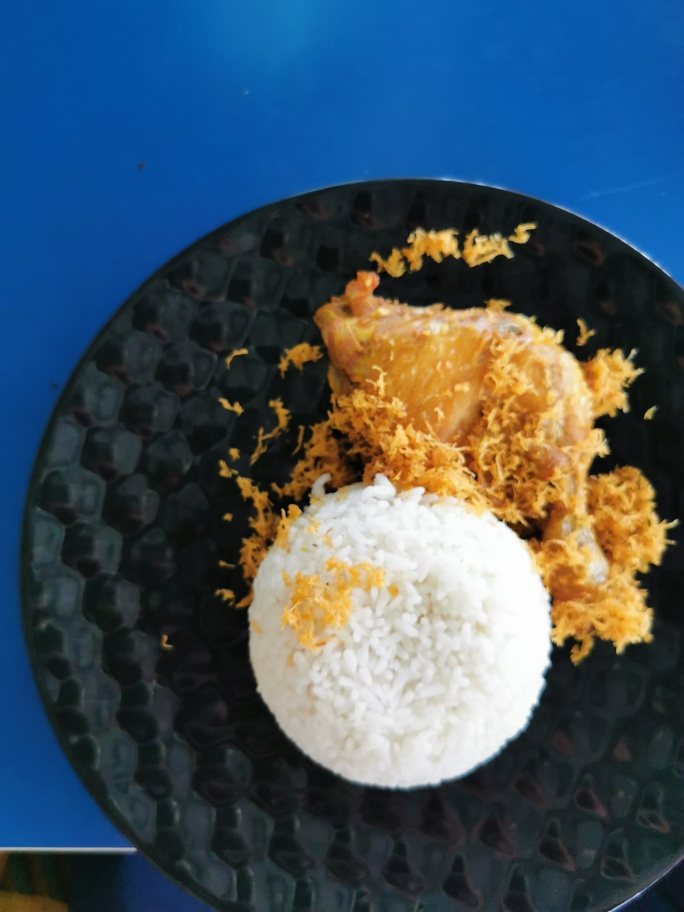ayam goreng: (290, 232, 653, 650)
nasi putih: (239, 485, 558, 797)
